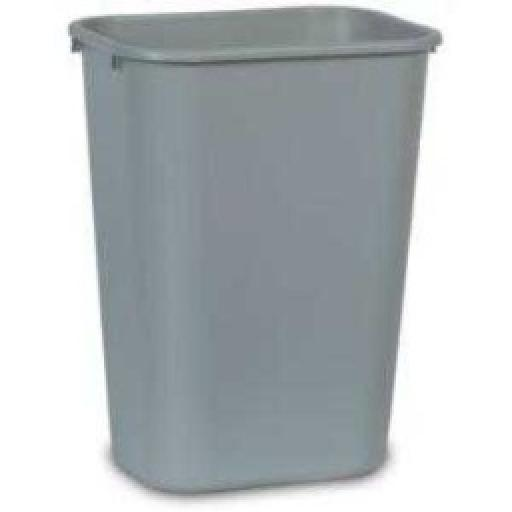trash-can: (48, 0, 438, 512)
